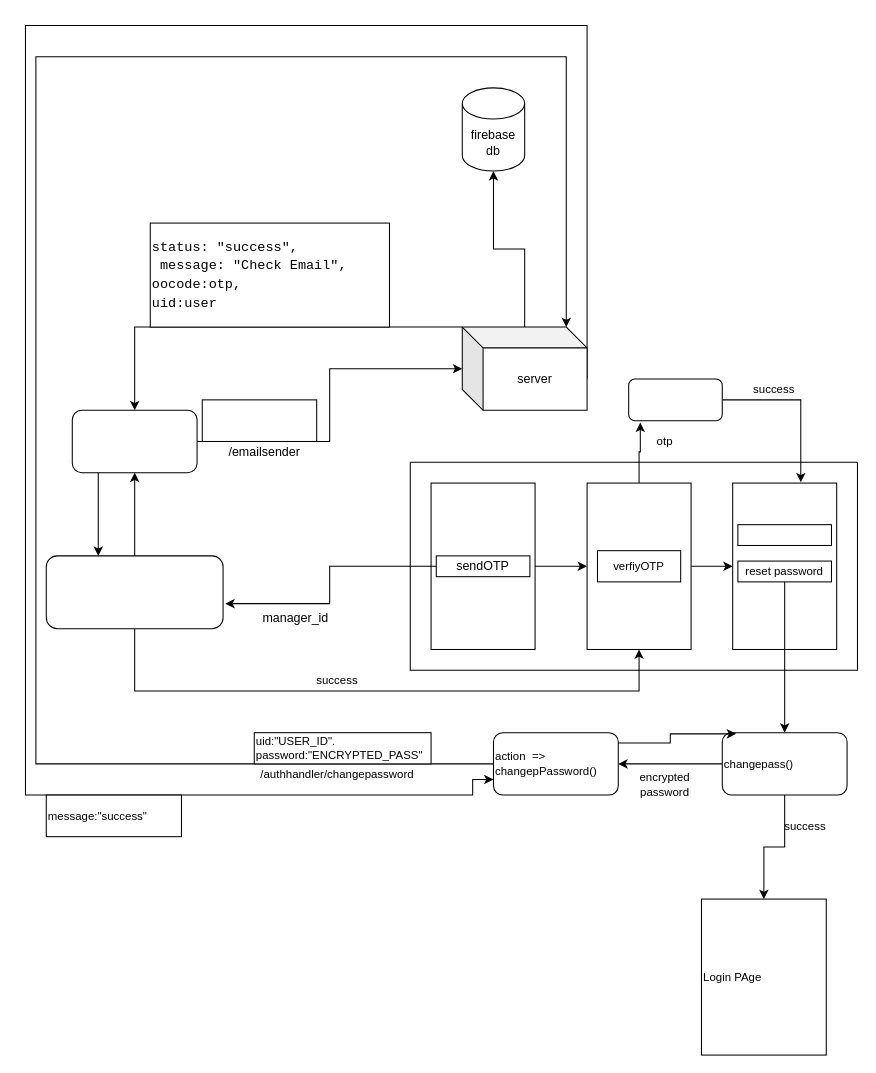
The diagram is 876 pixels wide and 1073 high, and some of its shapes have lost their labels. Here are the shapes that lost their labels. From the top down, the box of each, then its label:
(628, 378, 722, 421): verify(otp)
(201, 399, 317, 441): data: MANAGER_ID type:"manager_uid"
(71, 409, 197, 473): action sendotp()
(737, 524, 831, 545): new password
(45, 555, 223, 629): sendOTP()
